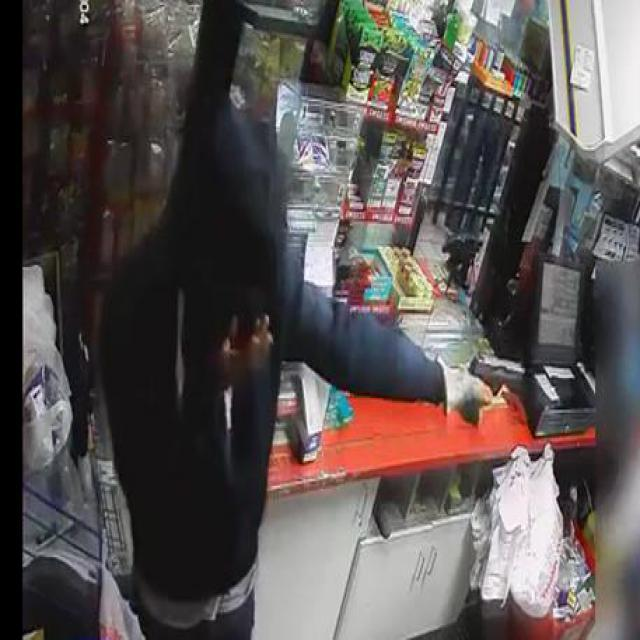Gun: (466, 350, 526, 420)
